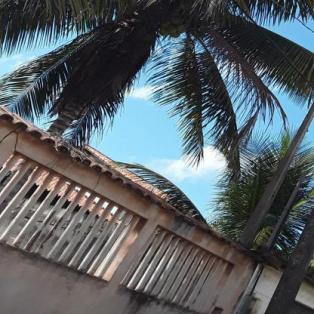Poste: (262, 0, 314, 314)
